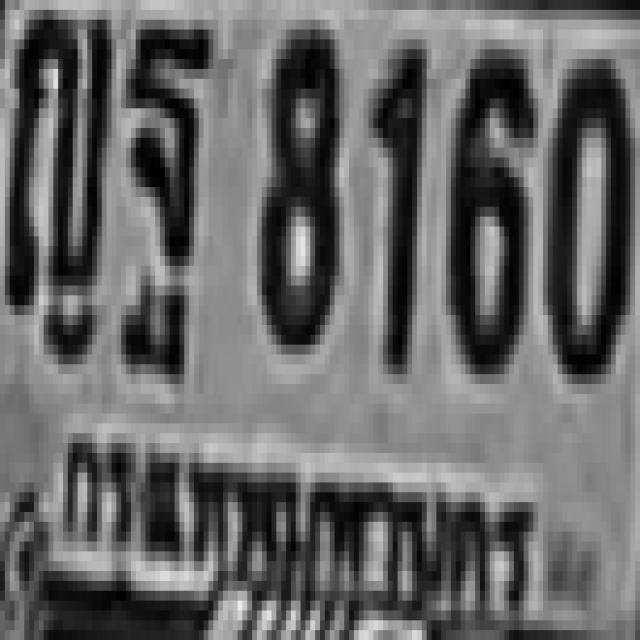0: (543, 49, 625, 374)
1: (368, 34, 422, 360)
22YorYing: (3, 5, 109, 310)
25ThorThan: (121, 15, 209, 330)
6: (446, 39, 529, 364)
8: (257, 19, 335, 344)
Bangkok: (47, 416, 537, 626)
